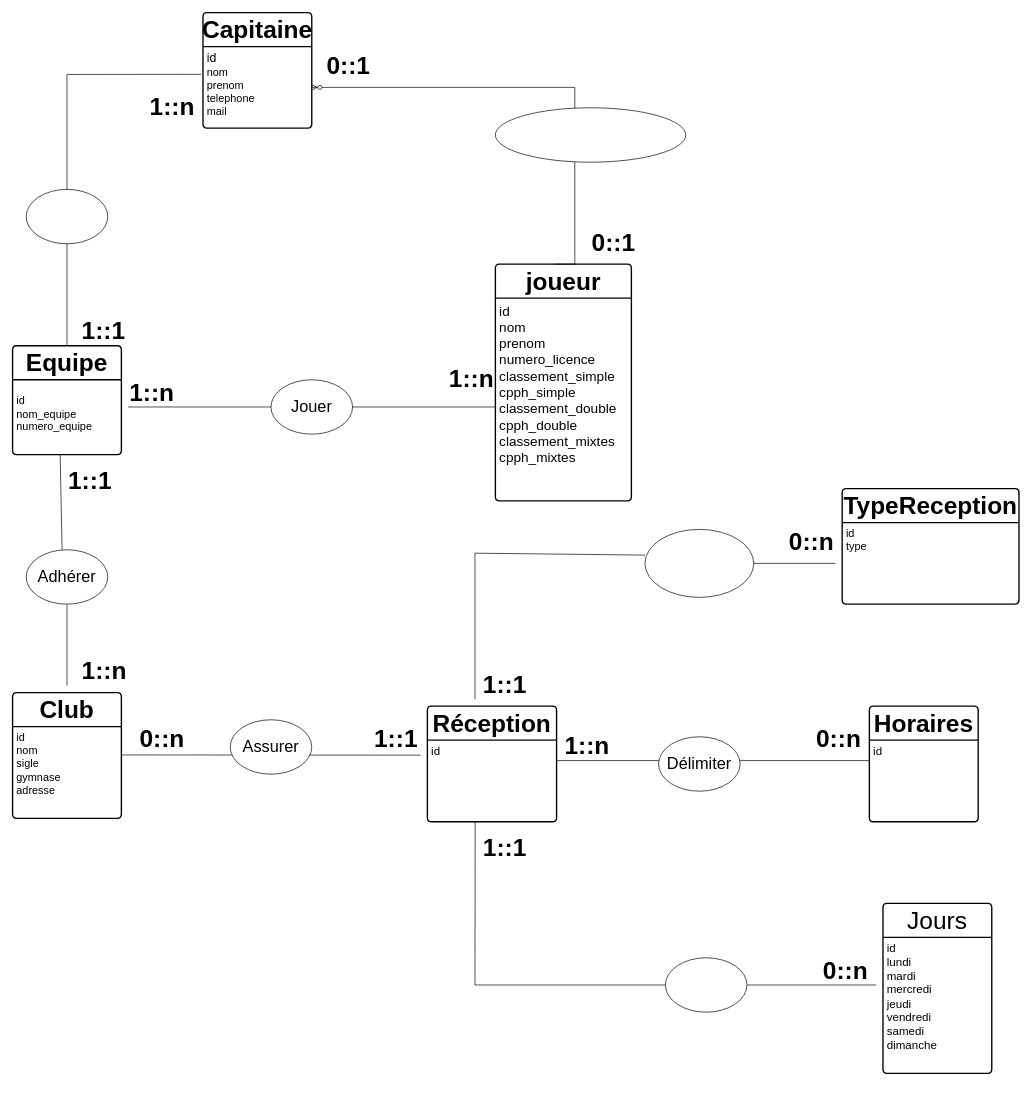
Some shapes in this 1031 by 1098 pixel diagram are drawn without their labels. The centre of each missing label's shape, as x and y in pixels:
"Présenter" goes at point (67, 216).
"Se caractériser" goes at point (699, 563).
"se dérouler" goes at point (706, 984).
"Se transformer" goes at point (590, 134).
